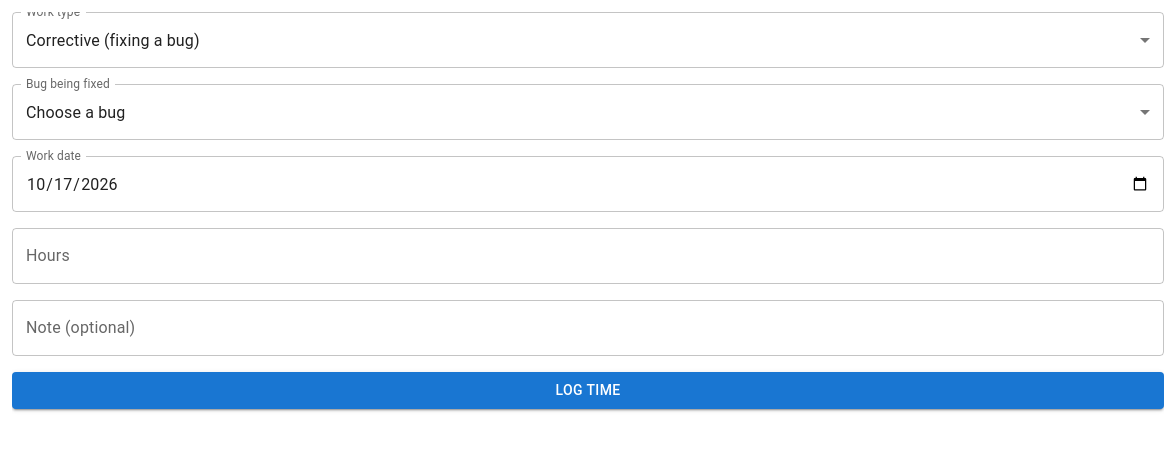
Test: TimeLogForm › rejects hours "24.5"
The image size is (1176, 451).
Select "#7 Declined cards are charged" in the dropdown labelled "Bug being fixed" at {"x": 588, "y": 112}, box [12,84,1164,140]
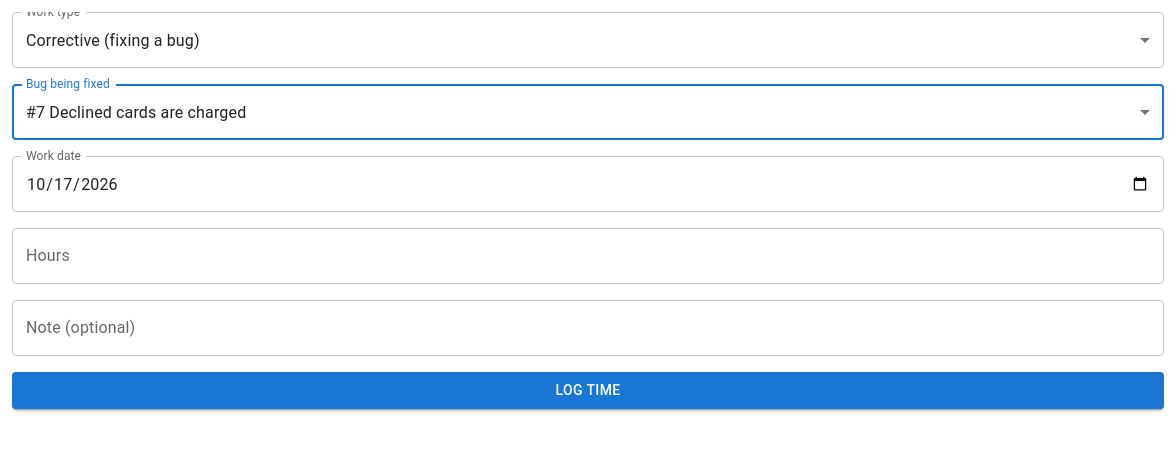
Type "24.5" into the field labelled "Hours".
click(588, 256); type("24.5")  # box [12,228,1164,284]
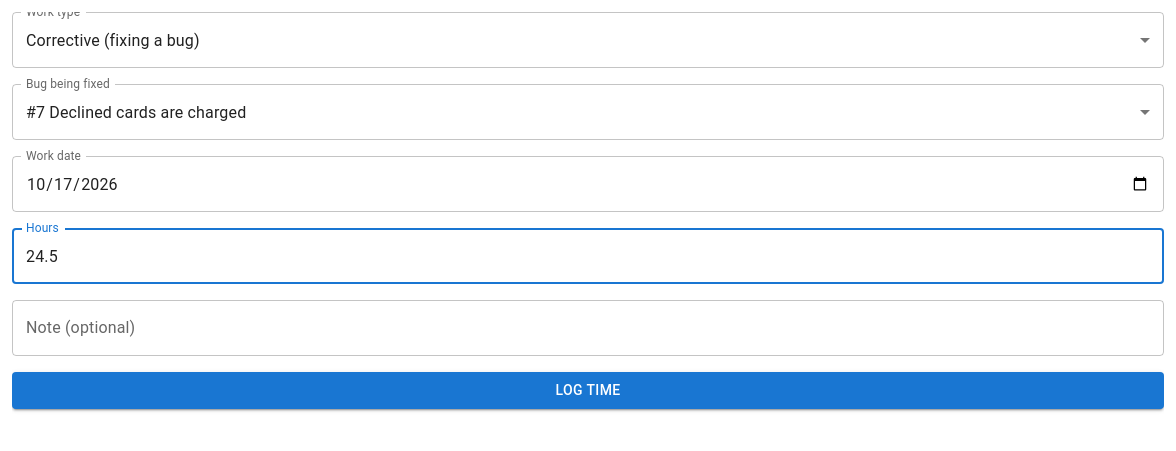
Click the button "Log time".
click(588, 390)  # box [12,372,1164,408]
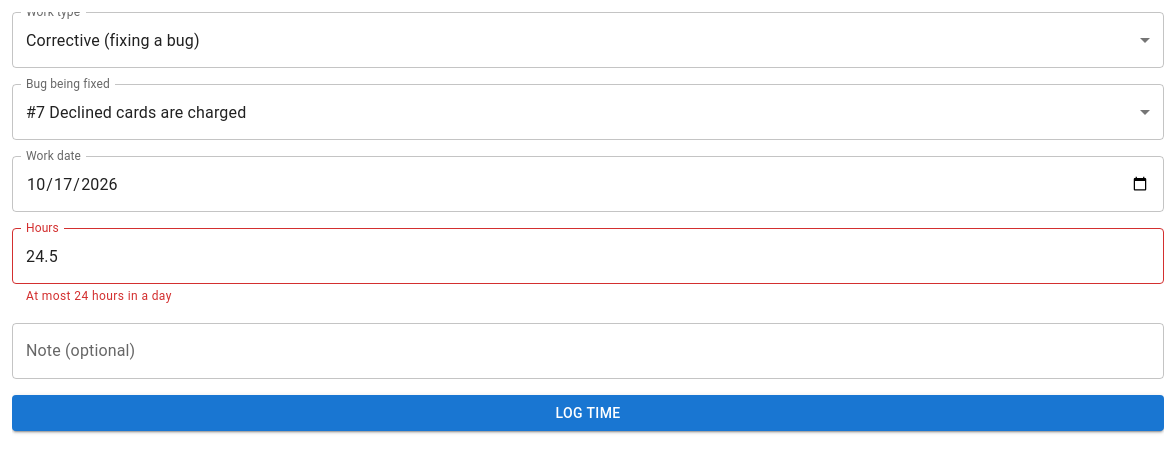
Result: the text "At most 24 hours in a day" is shown at [26,289,172,303]
